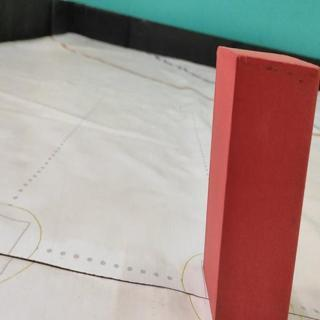redbox: (215, 47, 297, 320)
